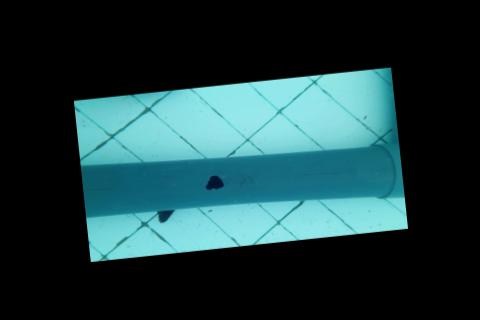kebocoran: (201, 173, 225, 192)
